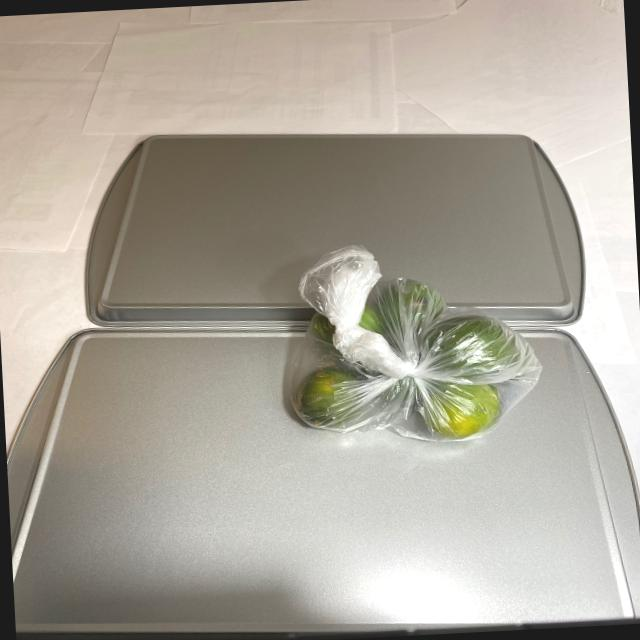lemon: (287, 278, 532, 452)
